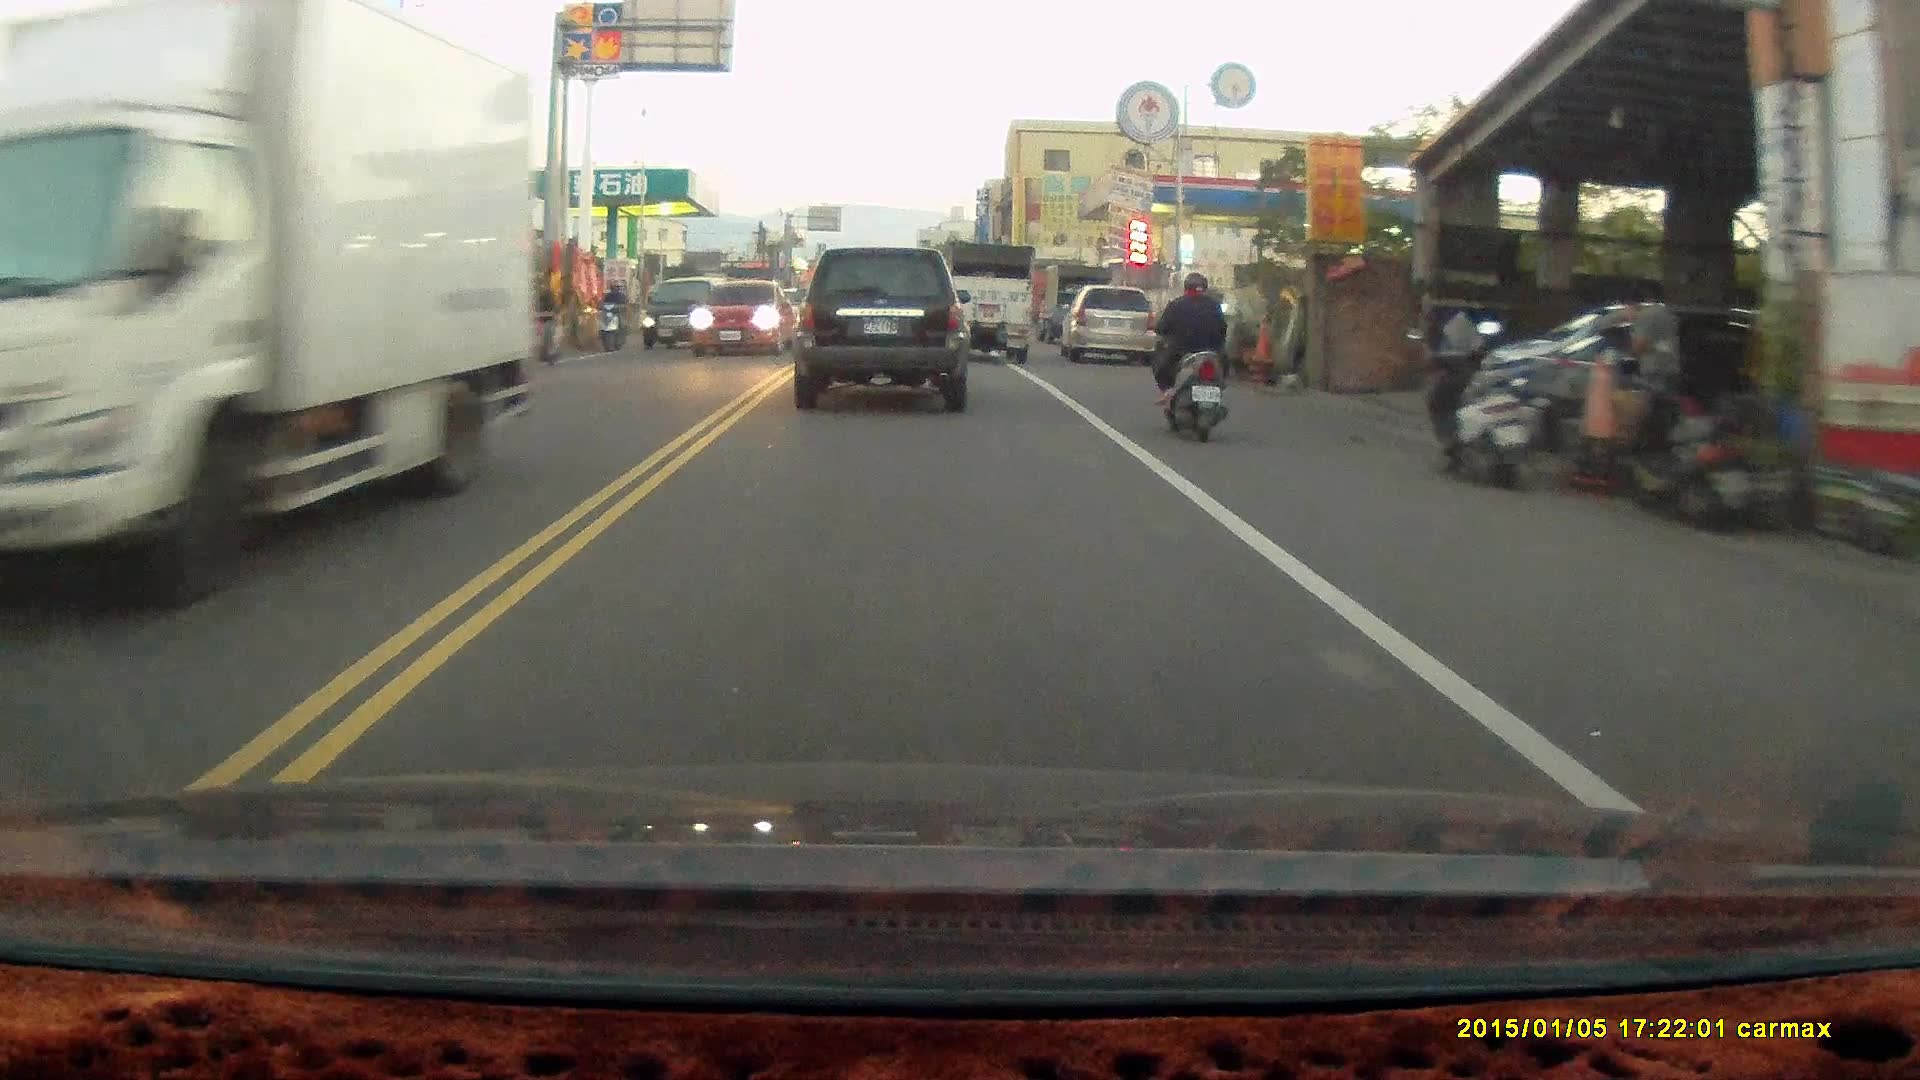pedestrian: (1631, 281, 1684, 429)
rider: (1146, 269, 1237, 444), (595, 278, 629, 349)
vehicle: (1, 34, 545, 599), (788, 244, 972, 413), (942, 238, 1035, 362), (688, 283, 800, 358), (1064, 284, 1155, 367), (641, 276, 733, 351)
